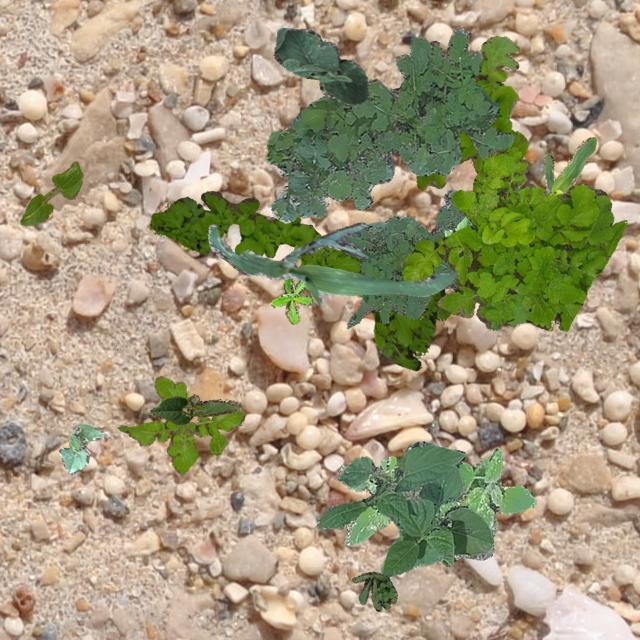crop: (316, 441, 492, 576), (207, 222, 458, 304), (272, 26, 366, 104), (19, 160, 82, 224), (542, 136, 596, 196), (148, 394, 240, 424), (58, 422, 106, 473)
weed: (148, 190, 450, 370), (266, 25, 512, 222), (400, 146, 626, 330), (344, 185, 520, 328), (338, 448, 536, 544), (416, 35, 526, 188), (116, 374, 245, 474), (270, 278, 310, 324), (352, 570, 396, 610), (444, 214, 474, 236)
